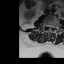CCS_normal: (49, 22, 50, 31)
LFS_normal: (53, 22, 55, 30)
LLS_normal: (50, 22, 52, 30)
RFS_normal: (45, 21, 47, 28)
RLS_normal: (47, 23, 49, 29)
